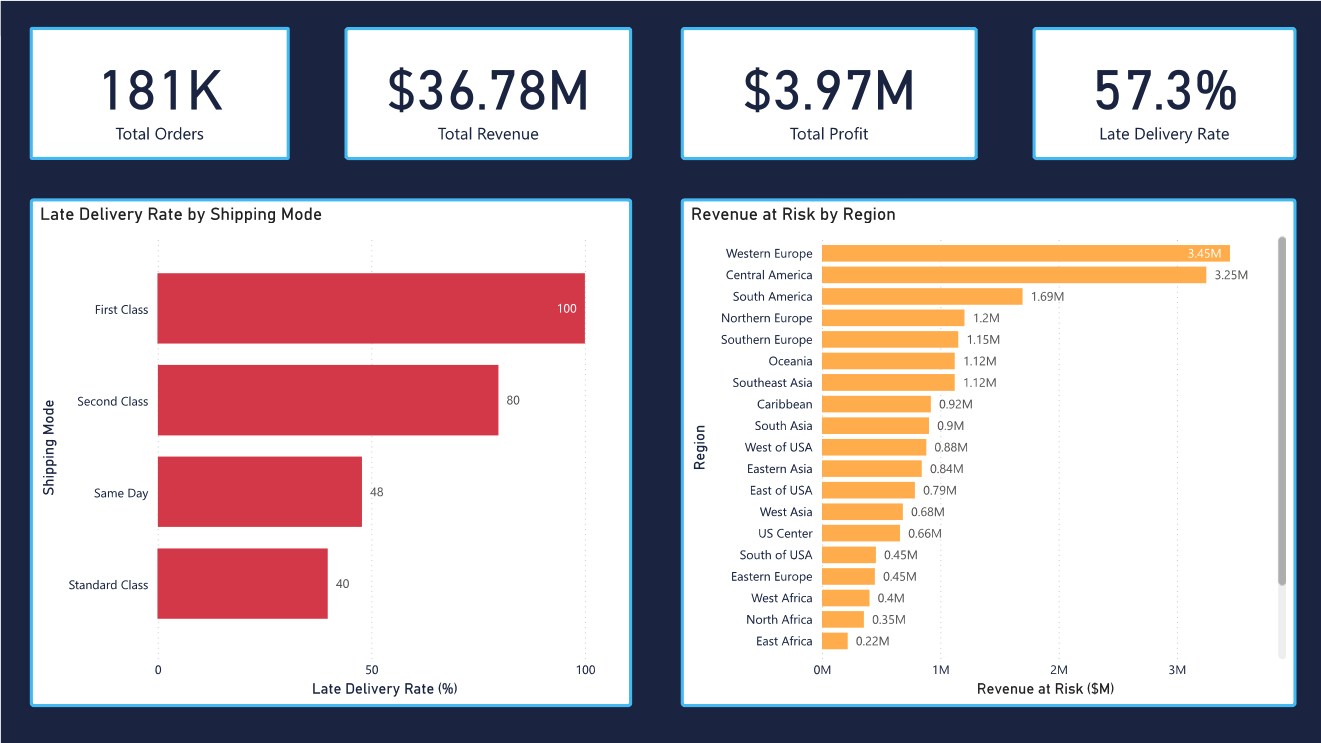

Layout of this report page (visuals, bound fields, positions):
{"tool":"powerbi","page":{"name":"Operations Overview","canvas":[1280,720],"ordinal":0},"visuals":[{"type":"card","fields":{"Values":["export_customer_segment.Total Orders #"]},"box":[27.8,25.5,252.3,128.5],"z":0},{"type":"card","fields":{"Values":["export_customer_segment.Total Revenue $"]},"box":[333.3,25.5,278.9,128.5],"z":1000},{"type":"card","fields":{"Values":["export_customer_segment.Total Profit $"]},"box":[658.5,25.5,288.2,128.5],"z":2000},{"type":"card","fields":{"Values":["export_customer_segment.Late Delivery Rate"]},"box":[999.9,25.5,255.8,128.5],"z":3000},{"type":"clusteredBarChart","title":"Late Delivery Rate by Shipping Mode","fields":{"Category":["export_shipping_mode.shipping_mode"],"Y":["Avg(export_shipping_mode.late_rate_pct)"]},"box":[27.8,191,584.4,493],"z":4000},{"type":"clusteredBarChart","title":"Revenue at Risk by Region","fields":{"Category":["export_delivery_performance.order_region"],"Y":["Sum(export_delivery_performance.revenue_at_risk)"]},"box":[658.5,191,597.2,493],"z":5000}]}

Visuals, with their boxes in screenshot pixels (x1, y1, x2, y2), scaled from the page's 1280x720 canvas onto the 1321x743 screenshot:
card - export_customer_segment.Total Orders #: {"x1": 29, "y1": 26, "x2": 289, "y2": 159}
card - export_customer_segment.Total Revenue $: {"x1": 344, "y1": 26, "x2": 632, "y2": 159}
card - export_customer_segment.Total Profit $: {"x1": 680, "y1": 26, "x2": 977, "y2": 159}
card - export_customer_segment.Late Delivery Rate: {"x1": 1032, "y1": 26, "x2": 1296, "y2": 159}
"Late Delivery Rate by Shipping Mode" clusteredBarChart: {"x1": 29, "y1": 197, "x2": 632, "y2": 706}
"Revenue at Risk by Region" clusteredBarChart: {"x1": 680, "y1": 197, "x2": 1296, "y2": 706}
